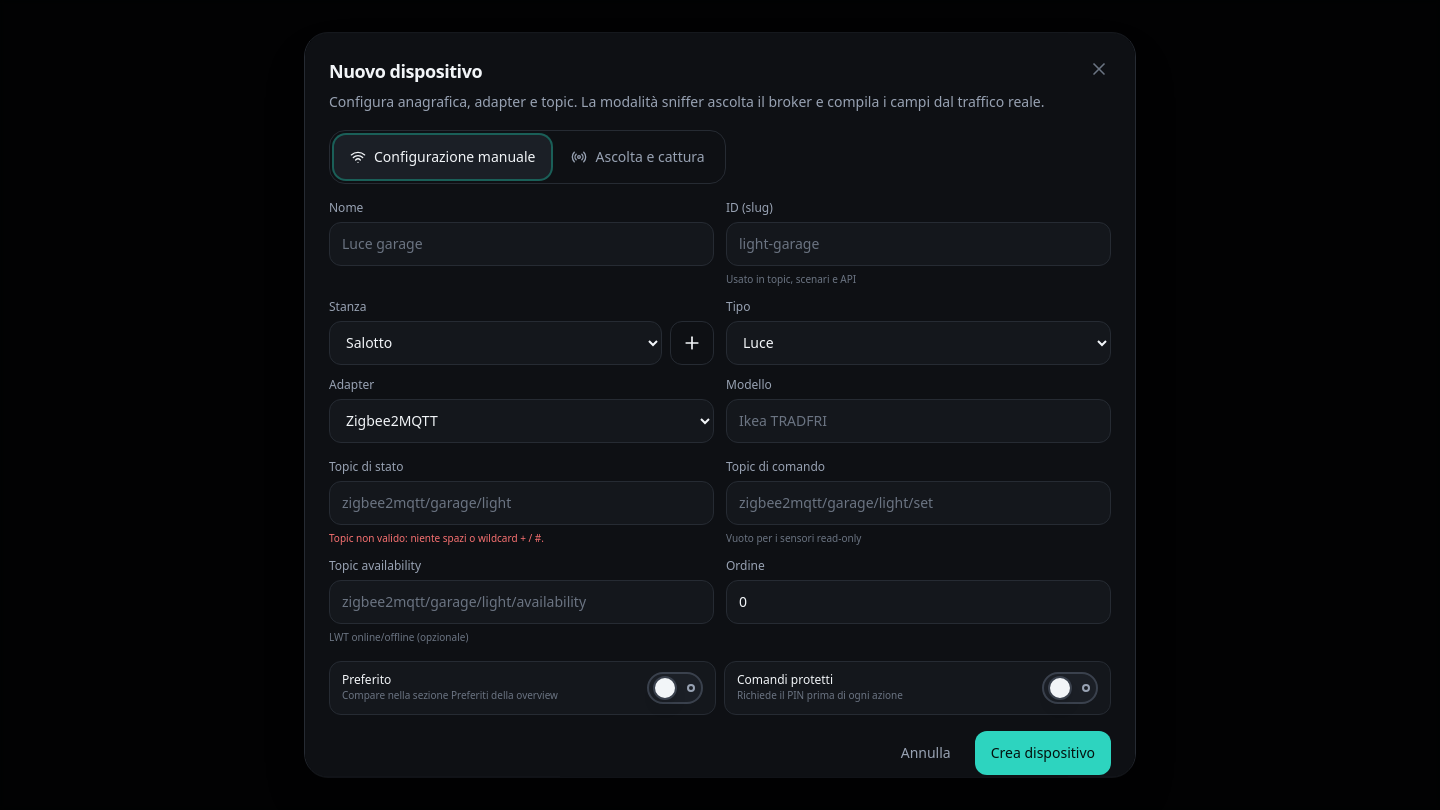
DeviceFormDialog › blocca i wildcard nel topic di stato
The width and height of the screenshot is (1440, 810).
Type "Sensore" into the field labelled "Nome" at (522, 244), box [329,222,714,266]
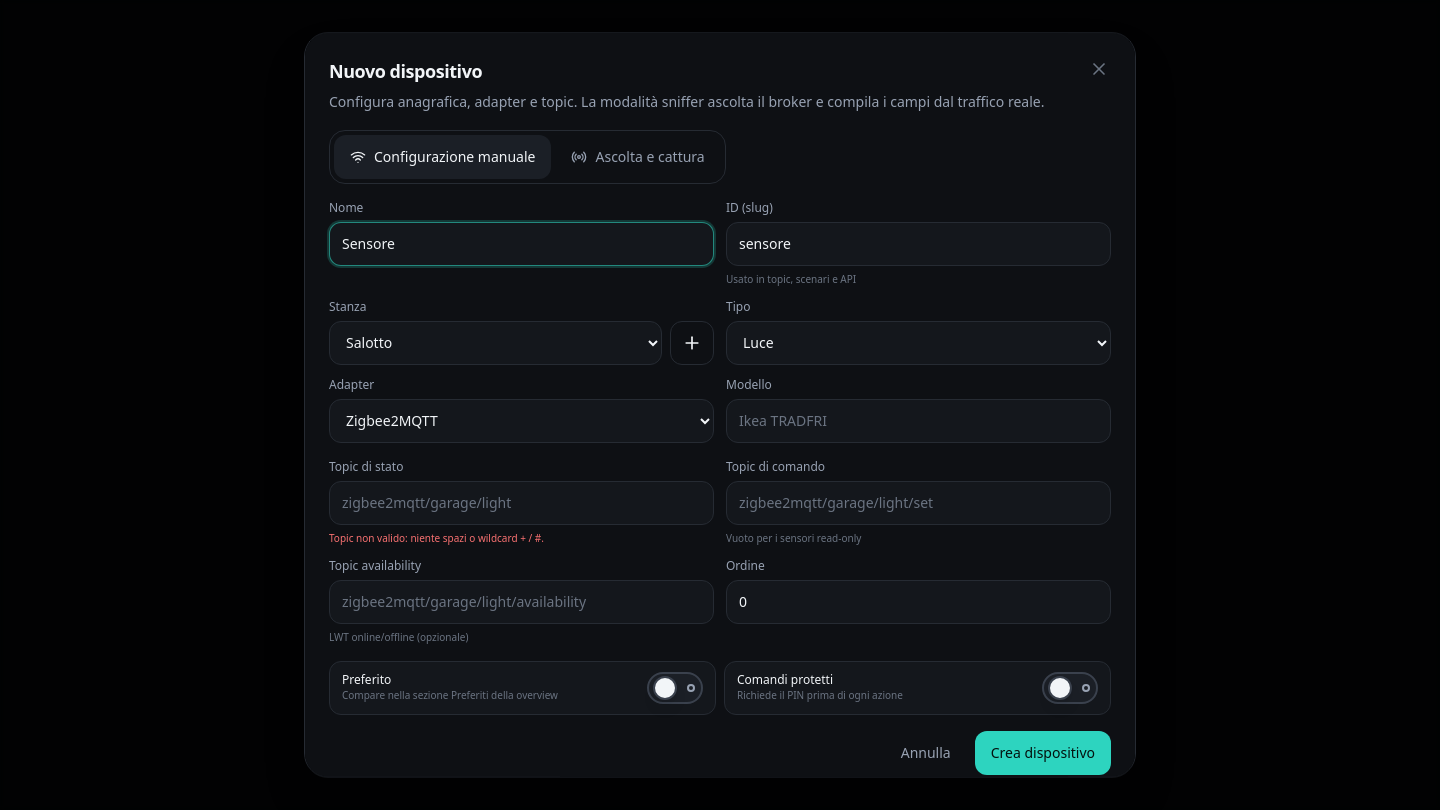
Type "tele/#" into the field labelled "Topic di stato" at (522, 503), box [329,481,714,525]
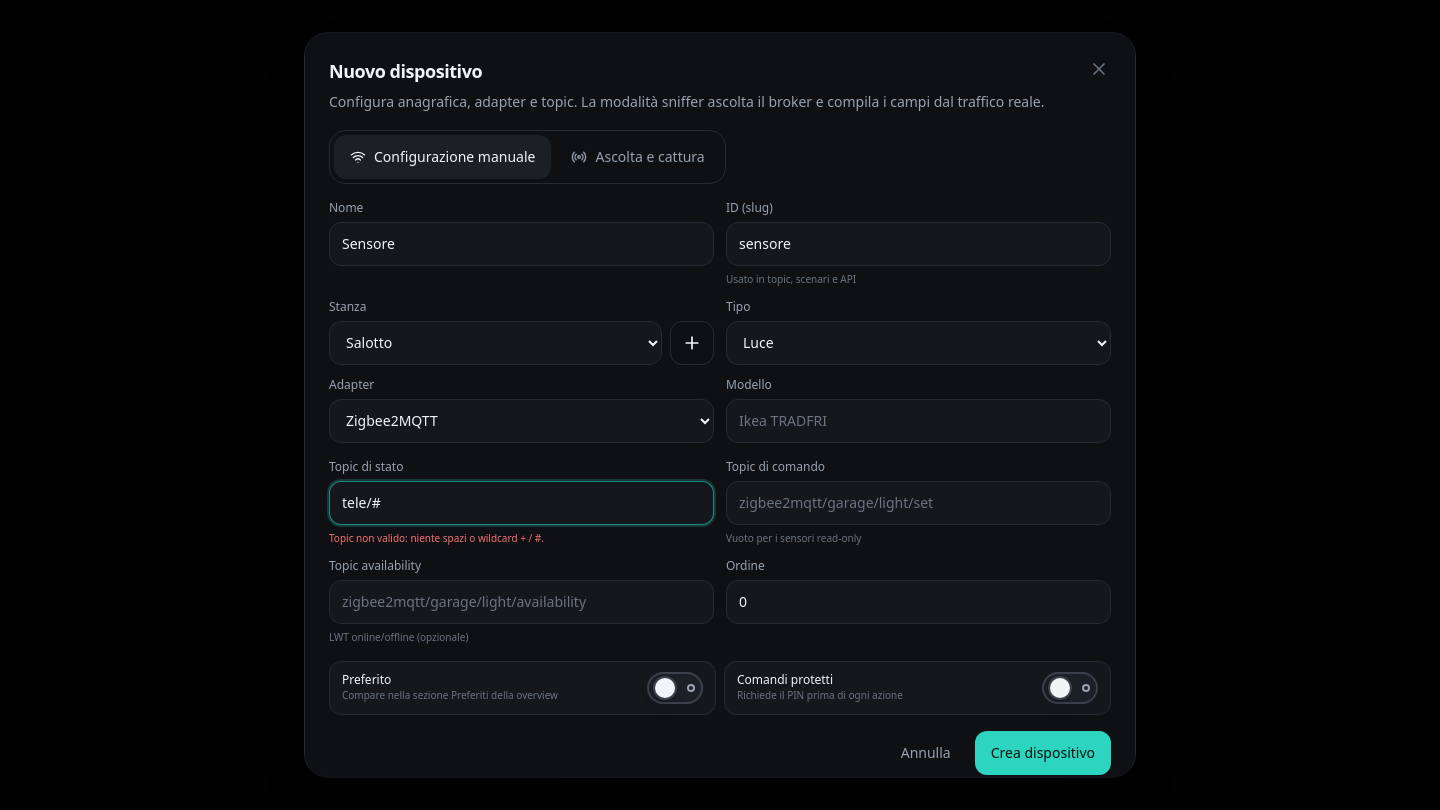
Click the button "Crea dispositivo" at (1043, 753), box [975,731,1111,775]
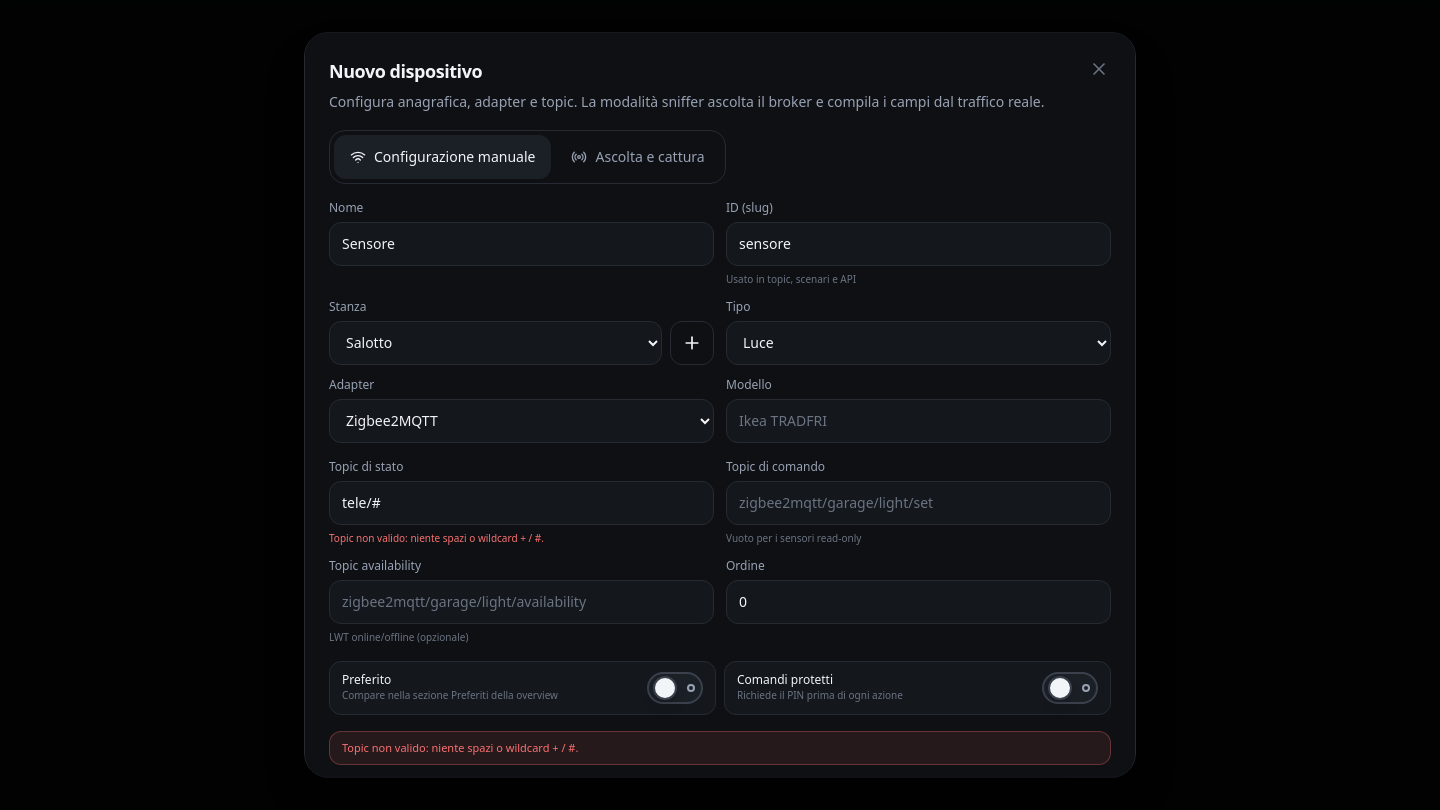
Expected: the message shows "wildcard", [342,740,578,755]
